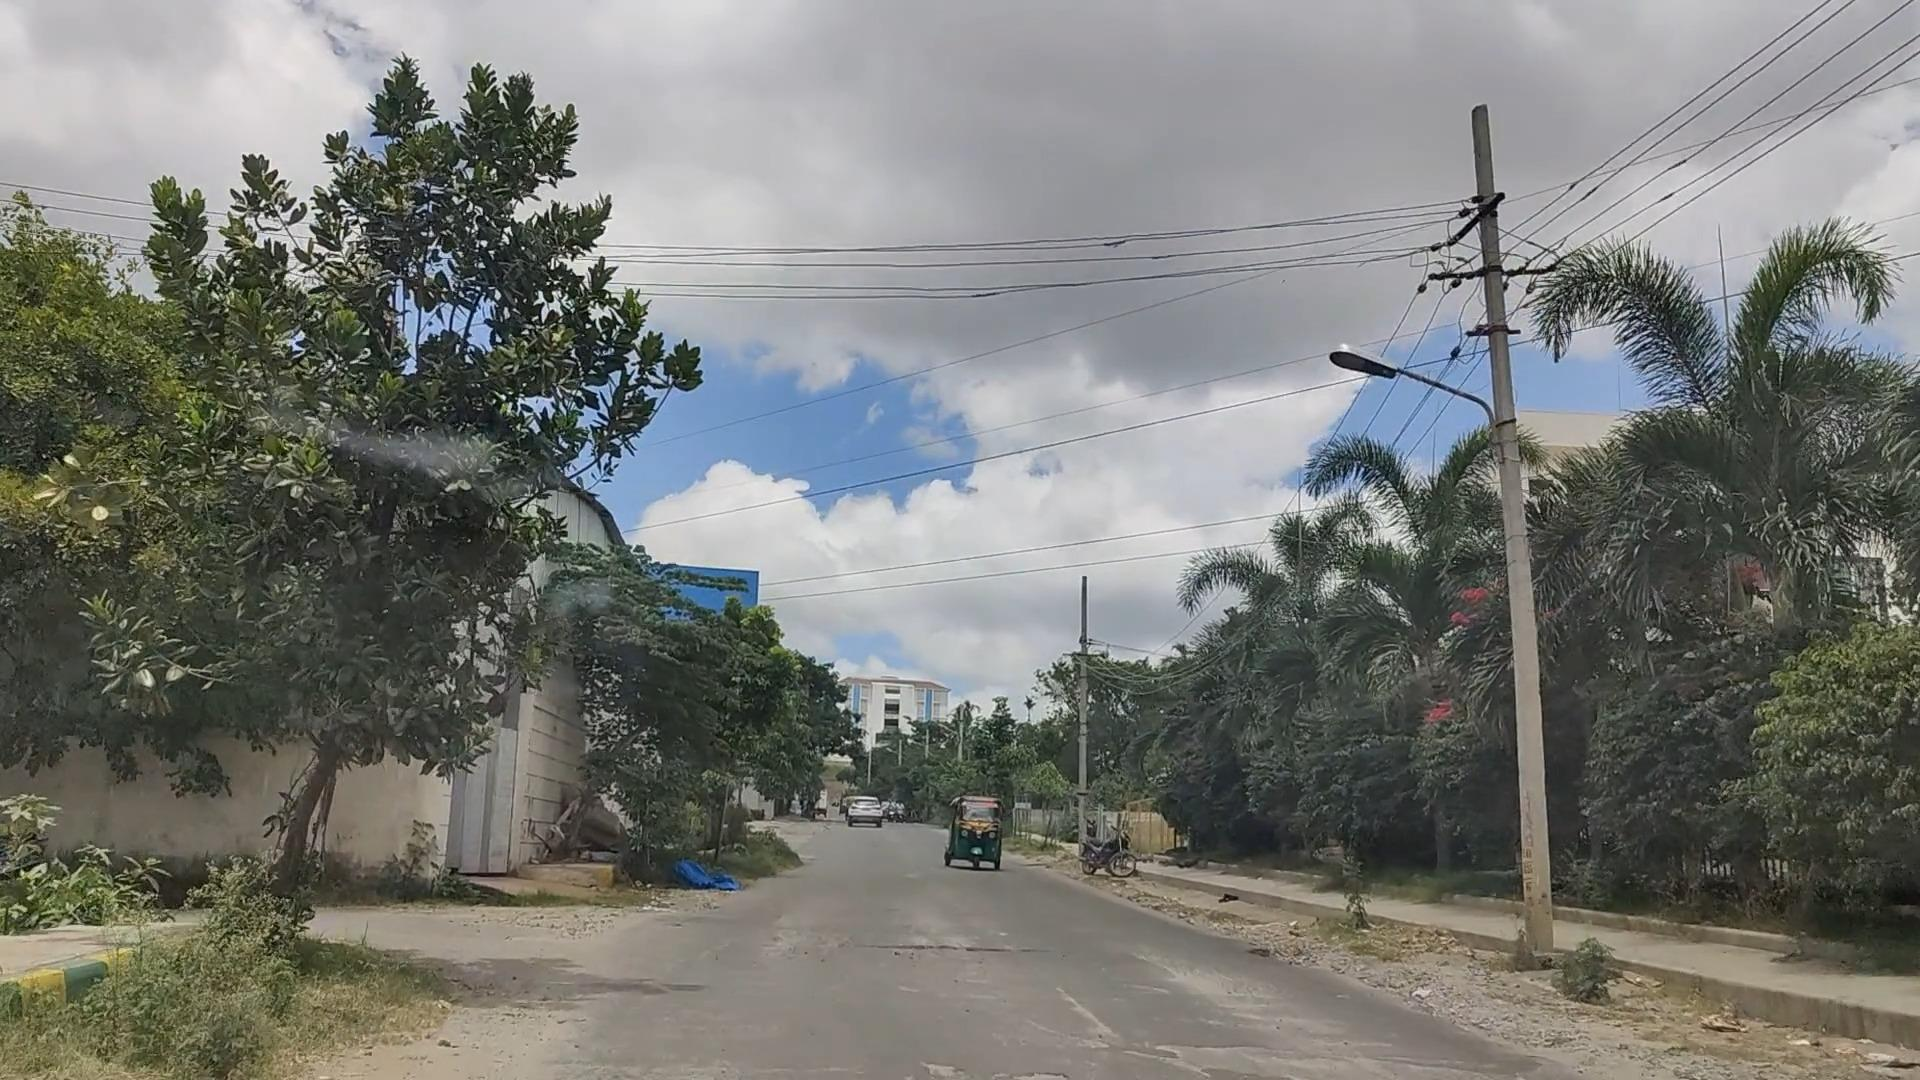RoadDamages: (847, 918, 1069, 985), (1072, 1017, 1278, 1080)
